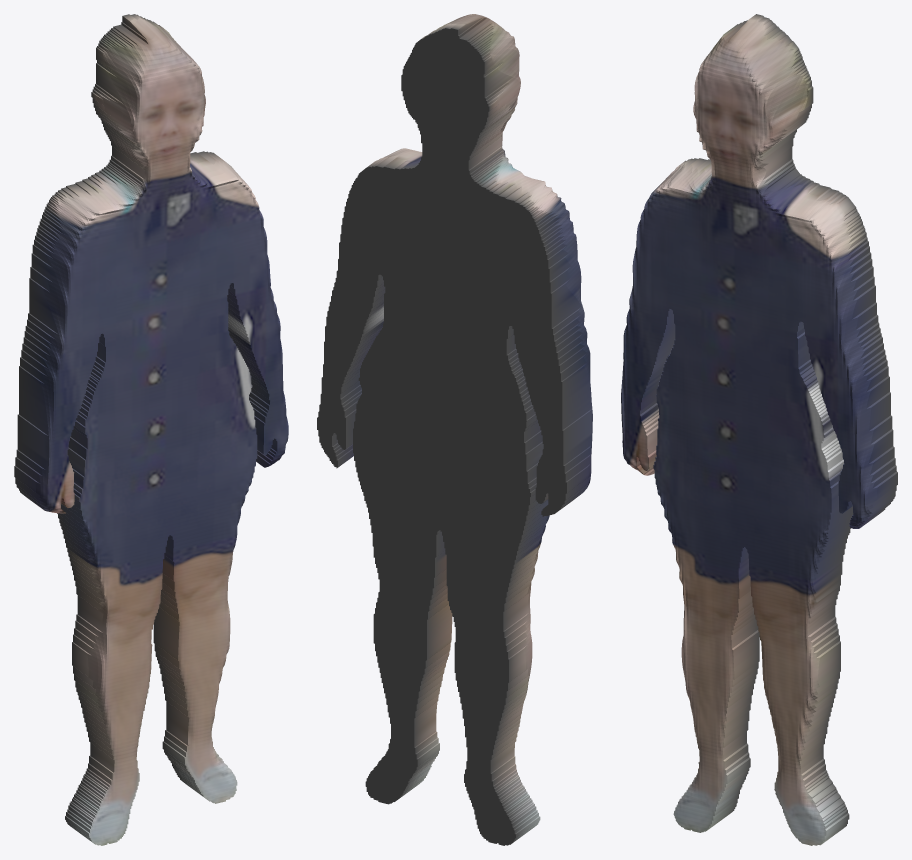
Rendered from avatar_195911.glb.
3 views of the same model, side by side, from view 1: azimuth 30°, elevation 25°; view 2: azimuth 150°, elevation 25°; view 3: azimuth 330°, elevation 25° (orthographic).
Parts seen in each view (by area): view 1: world; view 2: world; view 3: world.
Part boxes in pixels (x1,y1,x2,y2): world: (14, 14, 288, 845); world: (317, 14, 592, 845); world: (621, 14, 897, 845).
Size of the model in its own units: 41.04 by 126 by 11.22.
